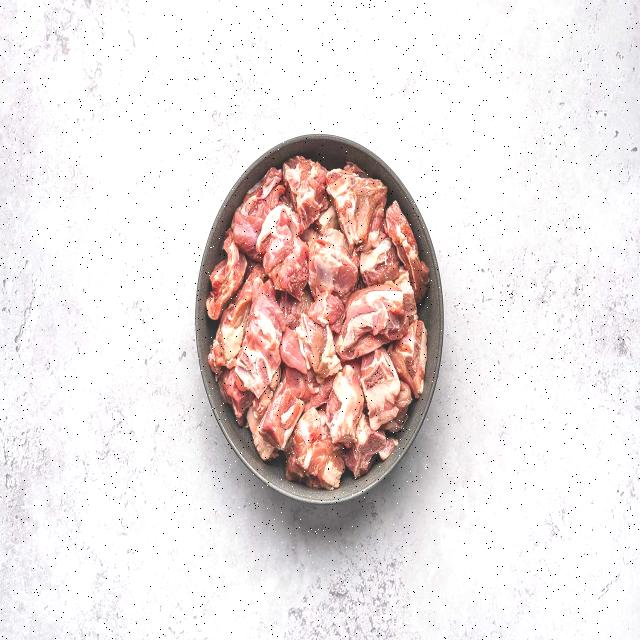Mutton: (220, 206, 416, 454)
